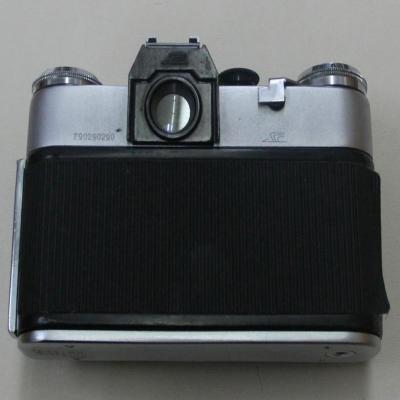technique: (7, 37, 392, 367)
